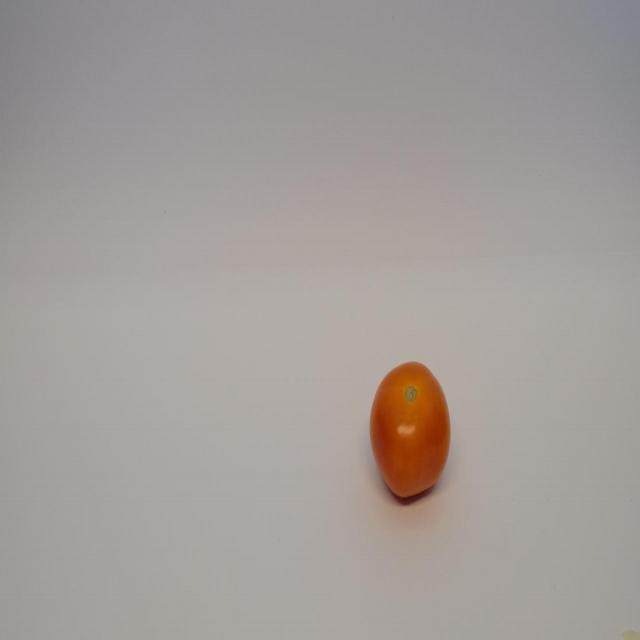tomato: (369, 360, 454, 501)
